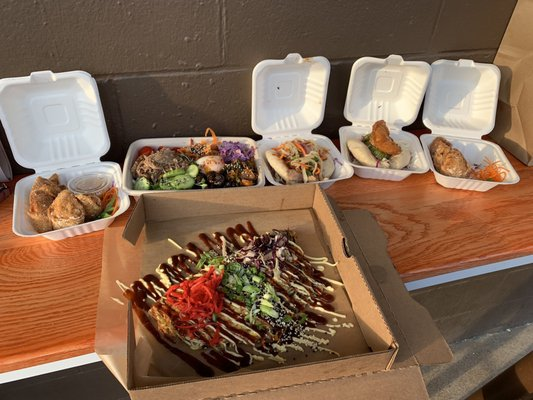sushi: (10, 162, 130, 244), (122, 136, 261, 197)
